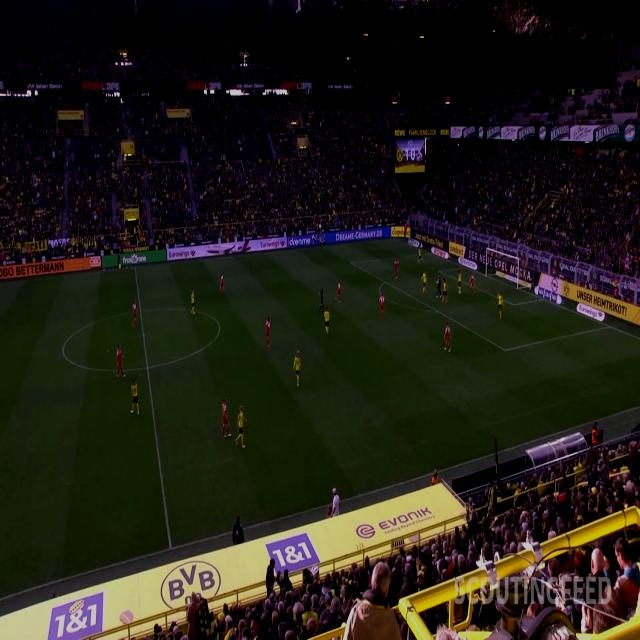ball: (436, 280, 439, 285)
f_player: (234, 404, 248, 448), (220, 396, 232, 440), (292, 350, 302, 388), (130, 378, 140, 416), (116, 343, 126, 379), (264, 317, 272, 349), (323, 305, 331, 336), (444, 322, 452, 352), (496, 290, 504, 320), (456, 268, 464, 296), (420, 268, 428, 296), (378, 293, 386, 320), (131, 299, 138, 329), (334, 278, 342, 304), (468, 270, 476, 296), (218, 272, 226, 296), (442, 278, 448, 305), (417, 246, 425, 266), (190, 289, 196, 315), (436, 272, 442, 298), (394, 256, 399, 280)
umpire: (318, 286, 324, 314)
